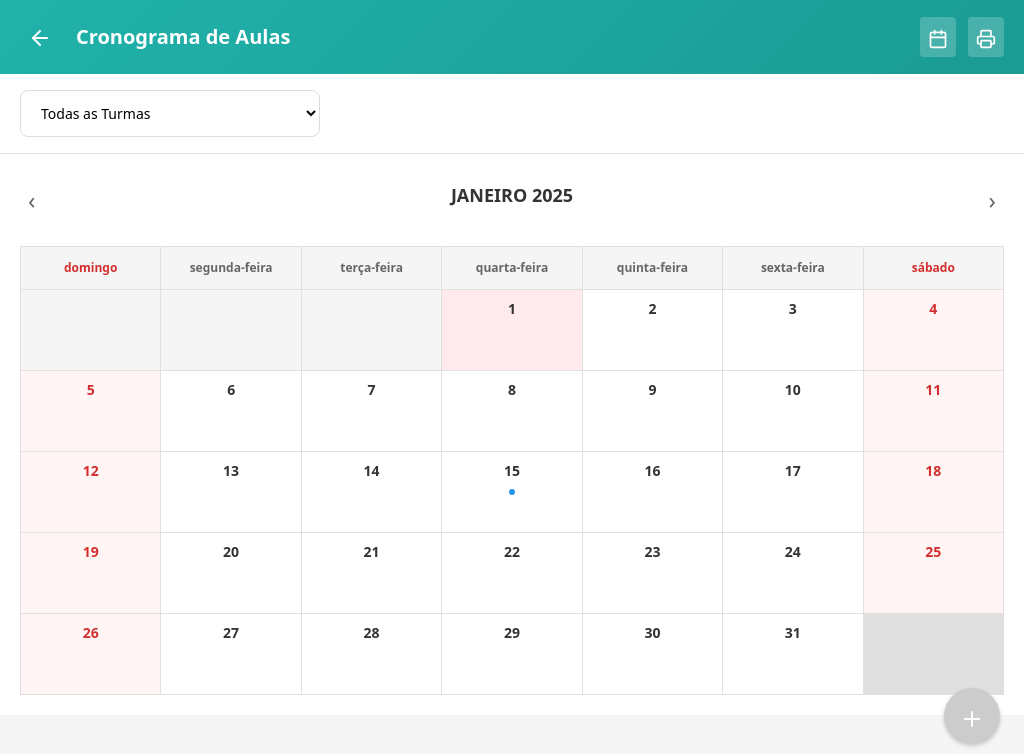
CronogramaPage › FAB fica habilitado quando dia é selecionado
The width and height of the screenshot is (1024, 754).
Expected: the button titled "Agendar Aulas" is disabled, [944,688,1000,744]
Click the text "15". click: click(512, 470)
box: [504,460,520,481]
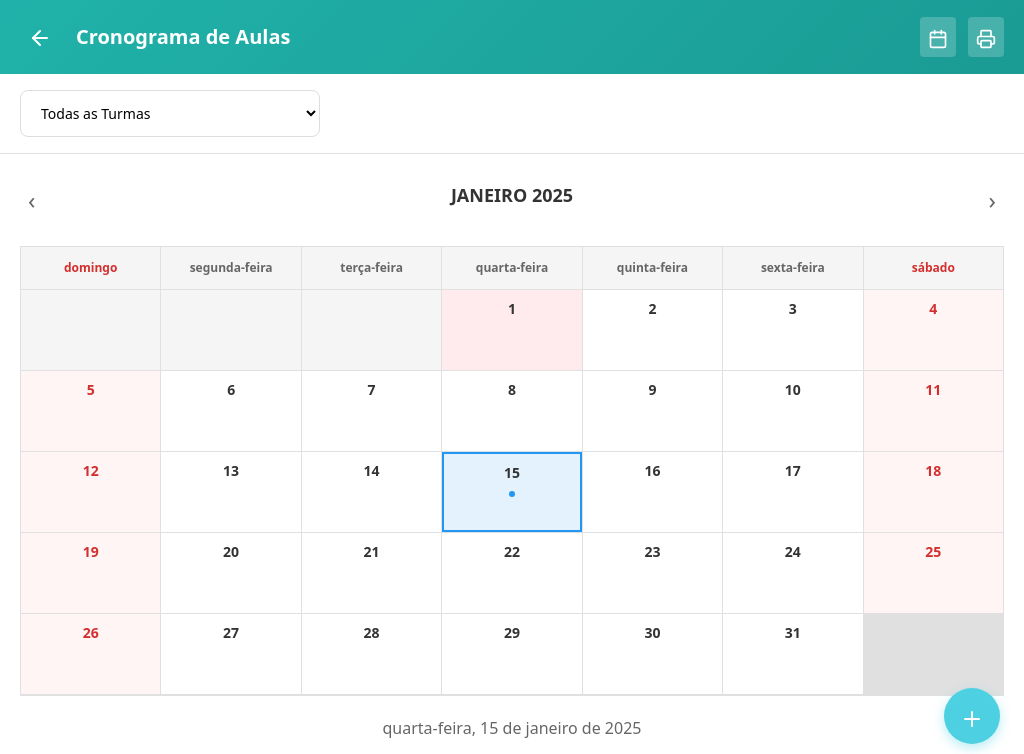
Now the button titled "Agendar Aulas" is enabled, box [944,688,1000,744]
